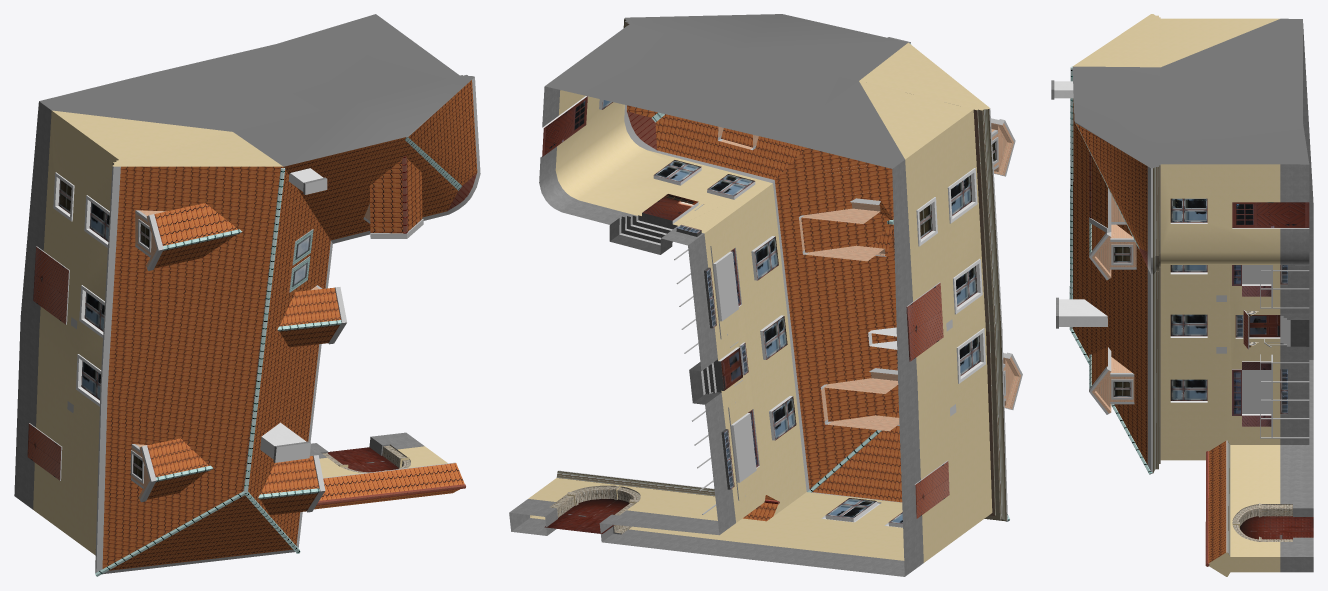
The model's file is Suur_Kloostri_2.obj.
3 views of the same model, side by side, from view 1: azimuth 30°, elevation 25°; view 2: azimuth 150°, elevation 25°; view 3: azimuth 270°, elevation 25° (orthographic). The views are drawn at different scales.
Parts seen in each view (by area): view 1: Suur_Kloostri_2; view 2: Suur_Kloostri_2; view 3: Suur_Kloostri_2.
Boxes of the visible parts, bbox=[...] form: Suur_Kloostri_2: bbox=[14, 14, 480, 576]; Suur_Kloostri_2: bbox=[509, 14, 1022, 576]; Suur_Kloostri_2: bbox=[1051, 14, 1313, 576].
Size of the model in its own units: 20.75 by 22.22 by 13.21.
